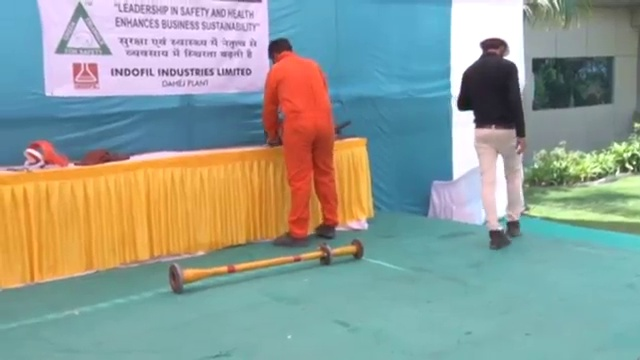helmet: (476, 29, 511, 56)
helmet_off: (266, 38, 293, 61)
helmet_on: (476, 29, 515, 63)
person: (260, 39, 338, 244), (458, 28, 529, 245)
